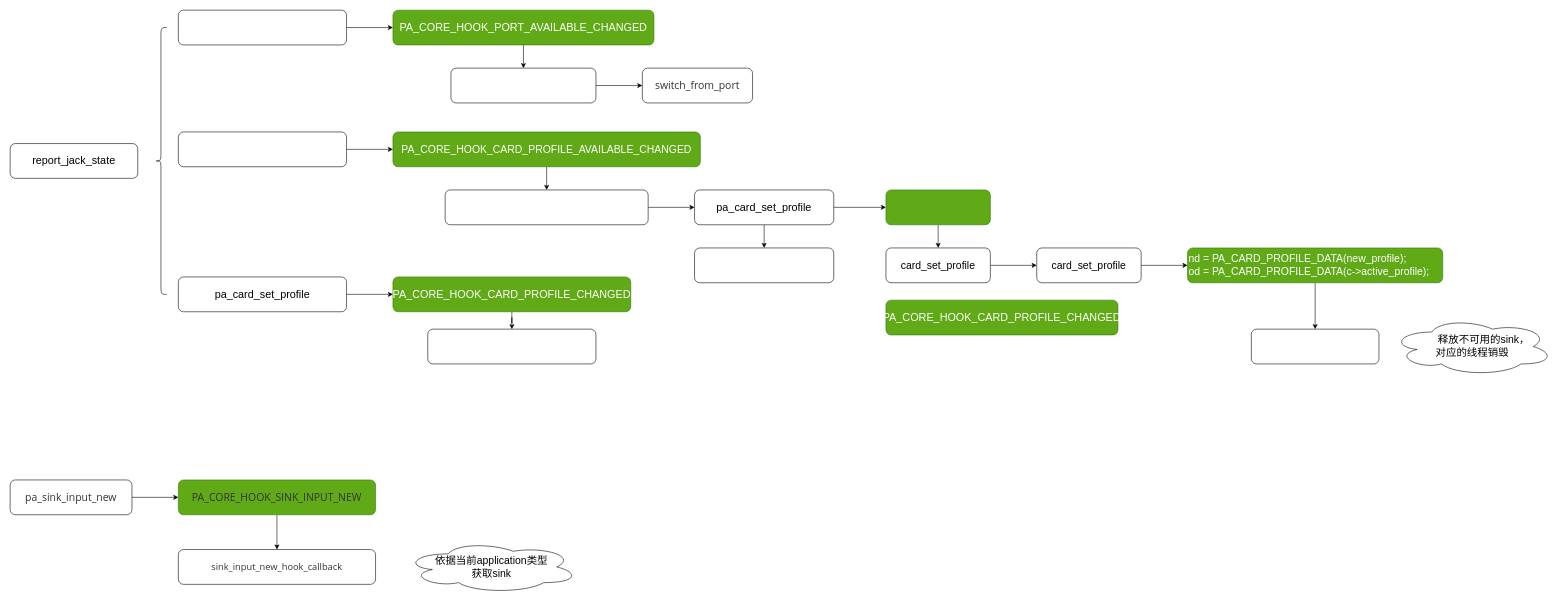
This 1564x603 diagram has some shape labels left out. Here are the shapes that lost their labels. From the top down, the centre of each, then its label:
[262,27]: pa_device_port_set_available
[523,85]: port_available_hook_callback
[262,149]: pa_card_profile_set_available
[546,207]: card_profile_available_hook_callback
[937,207]: c->set_profile
[764,265]: find_best_profile
[511,346]: card_profile_changed_callback
[1315,346]: pa_alsa_sink_free
